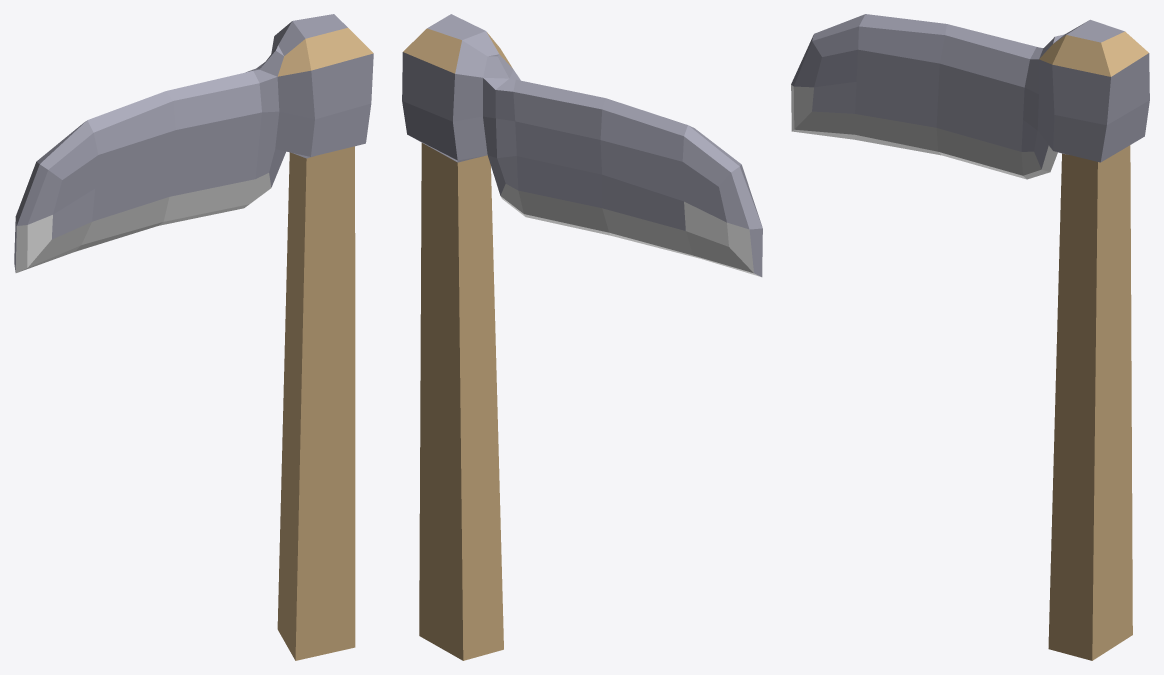
File: hoe.fbx
3 views of the same model, side by side, from view 1: azimuth 30°, elevation 25°; view 2: azimuth 150°, elevation 25°; view 3: azimuth 330°, elevation 25° (orthographic).
Parts seen in each view (by area): view 1: hoe; view 2: hoe; view 3: hoe.
Boxes of the visible parts, <box> form: hoe: <box>14,14,373,660</box>; hoe: <box>402,14,762,660</box>; hoe: <box>791,14,1149,660</box>.
Size of the model in its own units: 17.44 by 30.12 by 3.88.
